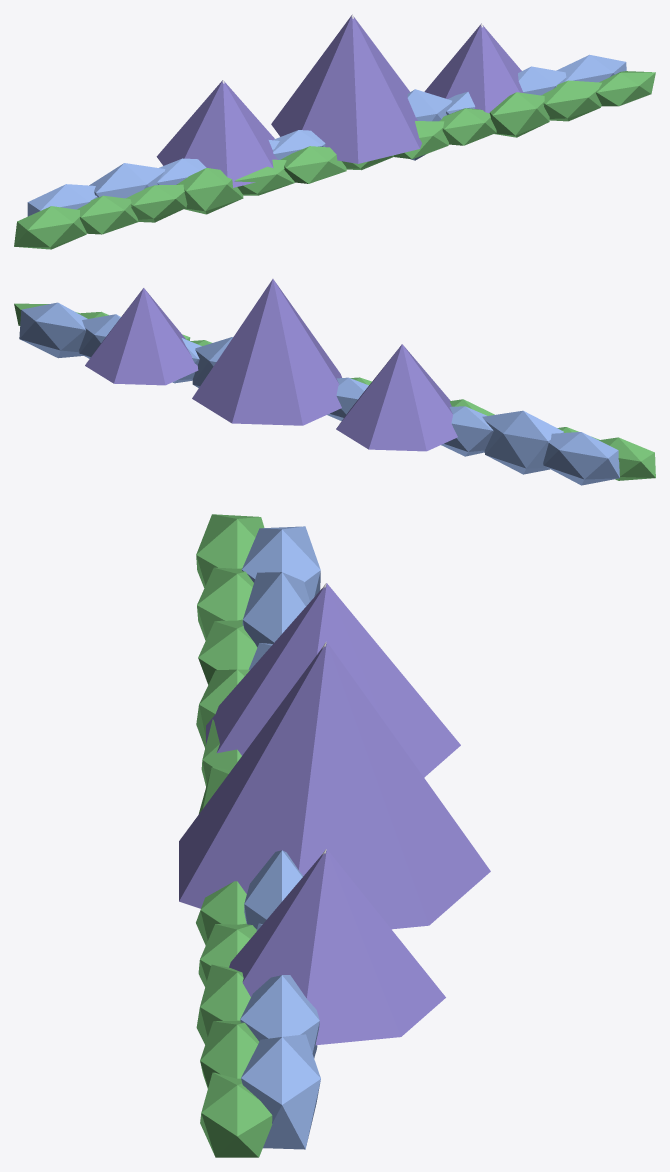
Rendered from backdrop_hills.glb.
3 renders of one model, top to bottom at view 1: azimuth 30°, elevation 25°; view 2: azimuth 150°, elevation 25°; view 3: azimuth 270°, elevation 25°, orthographic. The views are drawn at different scales.
Parts seen in each view (by area): view 1: Mountain; view 2: Mountain; view 3: Mountain.
Part boxes in pixels (x1,y1,x2,y2): Mountain: (14,14,655,249); Mountain: (14,278,655,485); Mountain: (179,514,490,1157).
Size of the model in its own units: 99.34 by 22.29 by 20.91.
